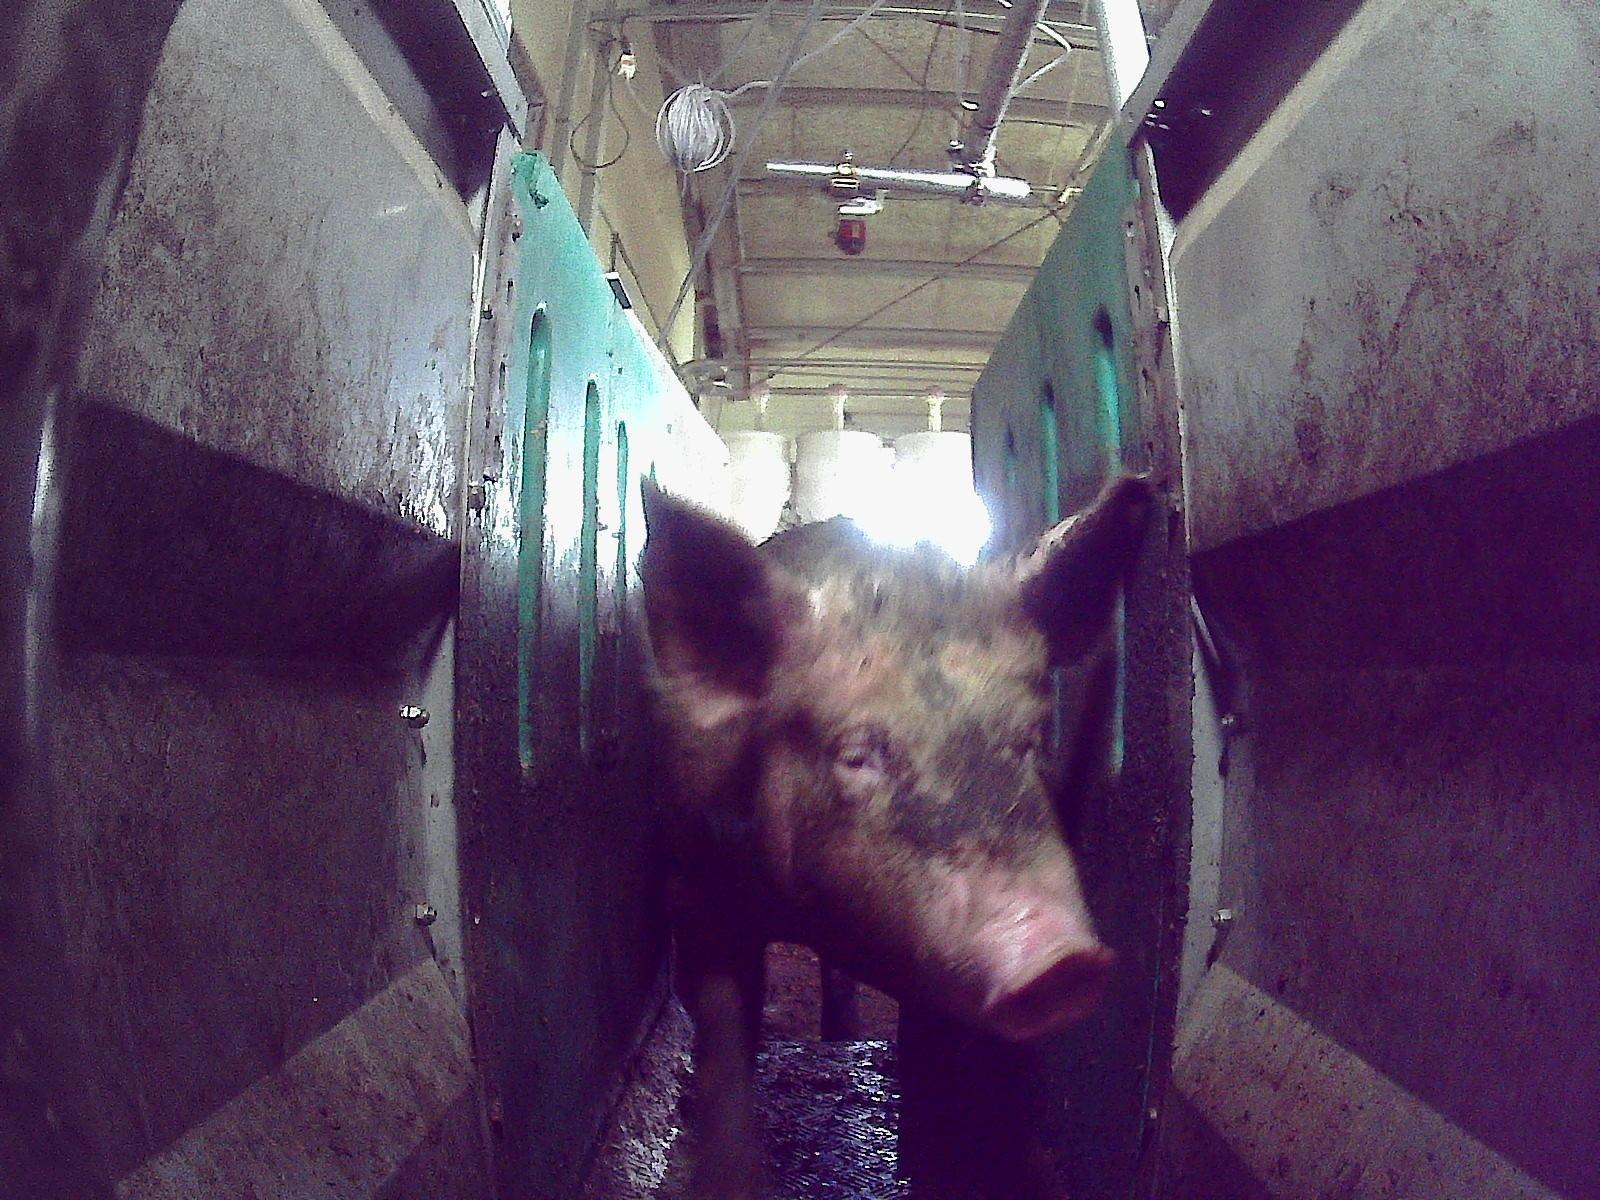Face: (736, 598, 1112, 1045)
